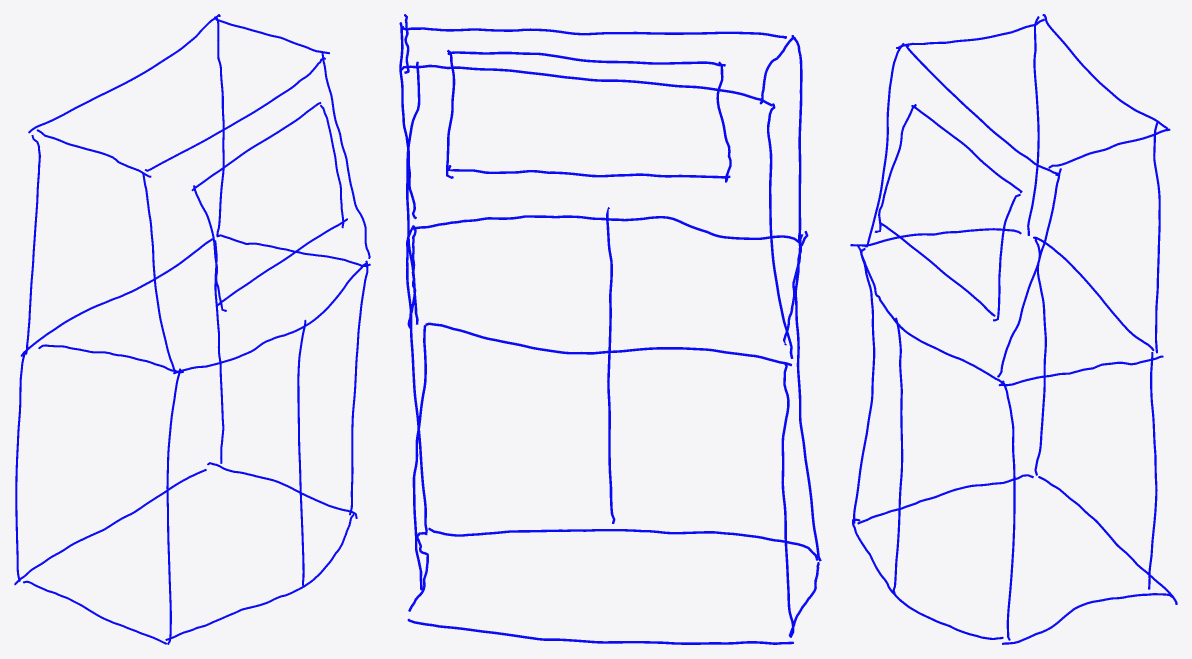
The model's file is scaffold_sketch_P5_trash.glb.
3 views of the same model, side by side, from view 1: azimuth 30°, elevation 25°; view 2: azimuth 150°, elevation 25°; view 3: azimuth 270°, elevation 25° (orthographic). The views are drawn at different scales.
Visible parts, largest first — view 1: scaffold_sketch_P5_trash; view 2: scaffold_sketch_P5_trash; view 3: scaffold_sketch_P5_trash.
Boxes of the visible parts, left/top/right/bottom form: scaffold_sketch_P5_trash: left=14, top=14, right=370, bottom=644; scaffold_sketch_P5_trash: left=399, top=14, right=821, bottom=644; scaffold_sketch_P5_trash: left=850, top=14, right=1177, bottom=644.
Bounding box in the file's own units: 0.7462 × 1 × 0.5928.
